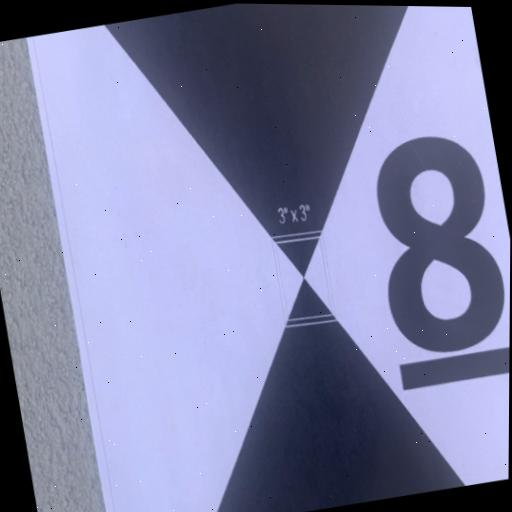target8: (22, 0, 512, 512)
